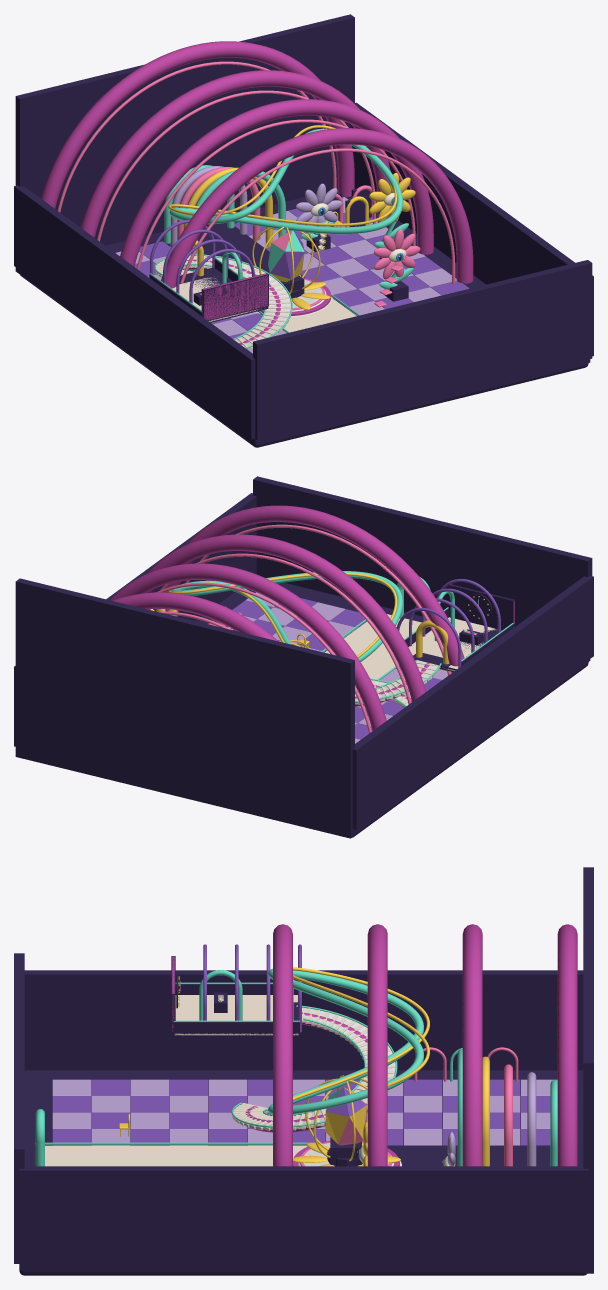
Rendered from dreamhouse.draco.glb.
3 views of the same model, one above another, from view 1: azimuth 30°, elevation 25°; view 2: azimuth 150°, elevation 25°; view 3: azimuth 270°, elevation 25° (orthographic). The views are drawn at different scales.
Visible parts, largest first — view 1: col_arrival, Rear wall, Side enclosure, col_rear, col_side, Arrival enclosure, Cathedral rib 00, Side enclosure.001, Cathedral rib 01, Cathedral rib 03, Cathedral rib 02, Atrium foundation (+18 smaller); view 2: Rear wall, Side enclosure, Arrival enclosure, col_rear, Cathedral rib 01, Cathedral rib 02, Cathedral rib 00, col_side, col_arrival, Atrium foundation, Cathedral rib 03, Suspended infinity ribbon 0 (+11 smaller); view 3: Side enclosure.001, Side enclosure, col_side.001, col_side, Atrium foundation, Quiet central promenade, Cathedral rib 03, Cathedral rib 01, Cathedral rib 02, Cathedral rib 00, Suspended infinity ribbon 0, col_floor (+42 smaller).
Part boxes in pixels (x1,y1,x2,y2): col_arrival: [253, 260, 592, 440]; Rear wall: [16, 15, 353, 271]; Side enclosure: [15, 186, 255, 437]; col_rear: [15, 14, 354, 274]; col_side: [14, 185, 255, 439]; Arrival enclosure: [254, 261, 590, 438]; Cathedral rib 00: [161, 128, 473, 288]; Side enclosure.001: [351, 103, 573, 283]; Cathedral rib 01: [120, 99, 433, 266]; Cathedral rib 03: [41, 41, 354, 208]; Cathedral rib 02: [80, 70, 390, 237]; Atrium foundation: [20, 188, 588, 447]; Rear wall: [17, 579, 353, 836]; Side enclosure: [352, 577, 592, 827]; Arrival enclosure: [254, 477, 591, 626]; col_rear: [15, 578, 354, 838]; Cathedral rib 01: [146, 534, 426, 701]; Cathedral rib 02: [110, 563, 386, 730]; Cathedral rib 00: [155, 505, 464, 672]; col_side: [352, 575, 593, 829]; col_arrival: [253, 476, 592, 616]; Atrium foundation: [195, 582, 588, 837]; Cathedral rib 03: [113, 592, 278, 641]; Suspended infinity ribbon 0: [170, 571, 403, 661]; Side enclosure.001: [21, 1167, 586, 1264]; Side enclosure: [24, 971, 583, 1068]; col_side.001: [19, 1166, 588, 1266]; col_side: [24, 970, 583, 1070]; Atrium foundation: [19, 1070, 586, 1275]; Quiet central promenade: [45, 1145, 307, 1166]; Cathedral rib 03: [557, 924, 577, 1166]; Cathedral rib 01: [367, 924, 387, 1166]; Cathedral rib 02: [462, 924, 482, 1166]; Cathedral rib 00: [273, 924, 292, 1166]; Suspended infinity ribbon 0: [268, 968, 423, 1114]; col_floor: [19, 1266, 583, 1270].
Bounding box in the file's own units: 45 × 24.55 × 55.
